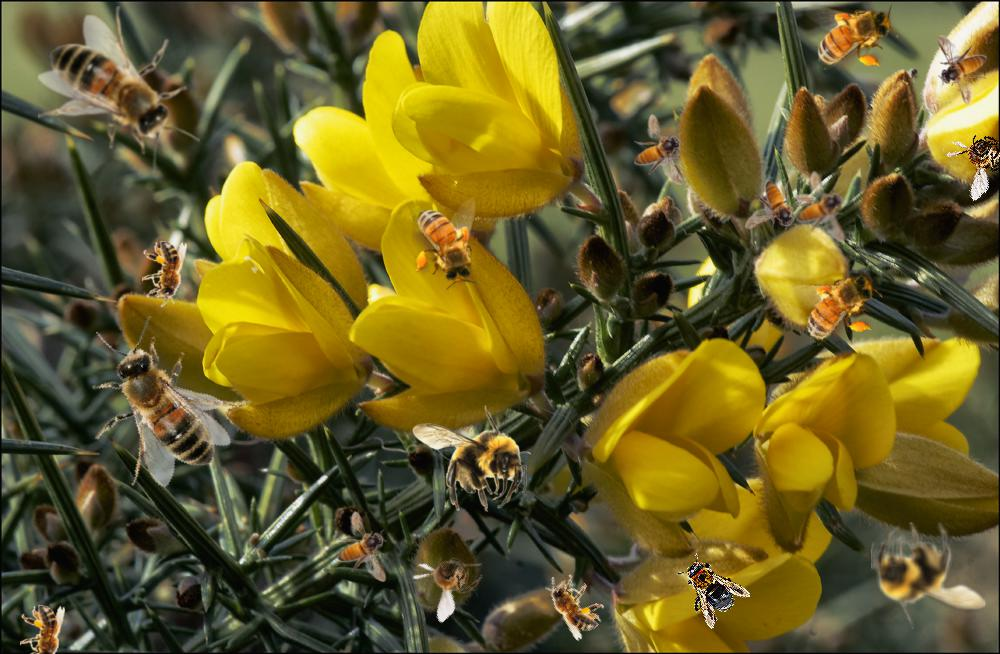Bee: (54, 301, 261, 511), (38, 6, 200, 173), (412, 405, 527, 512), (871, 522, 986, 629), (784, 262, 890, 351), (402, 532, 495, 624), (666, 545, 752, 631), (805, 2, 898, 70), (412, 197, 480, 290), (534, 564, 612, 643), (936, 110, 1000, 202), (337, 511, 387, 582), (745, 180, 816, 230), (796, 171, 846, 242), (634, 114, 684, 185), (937, 35, 987, 106), (142, 241, 187, 307), (20, 605, 65, 654)
